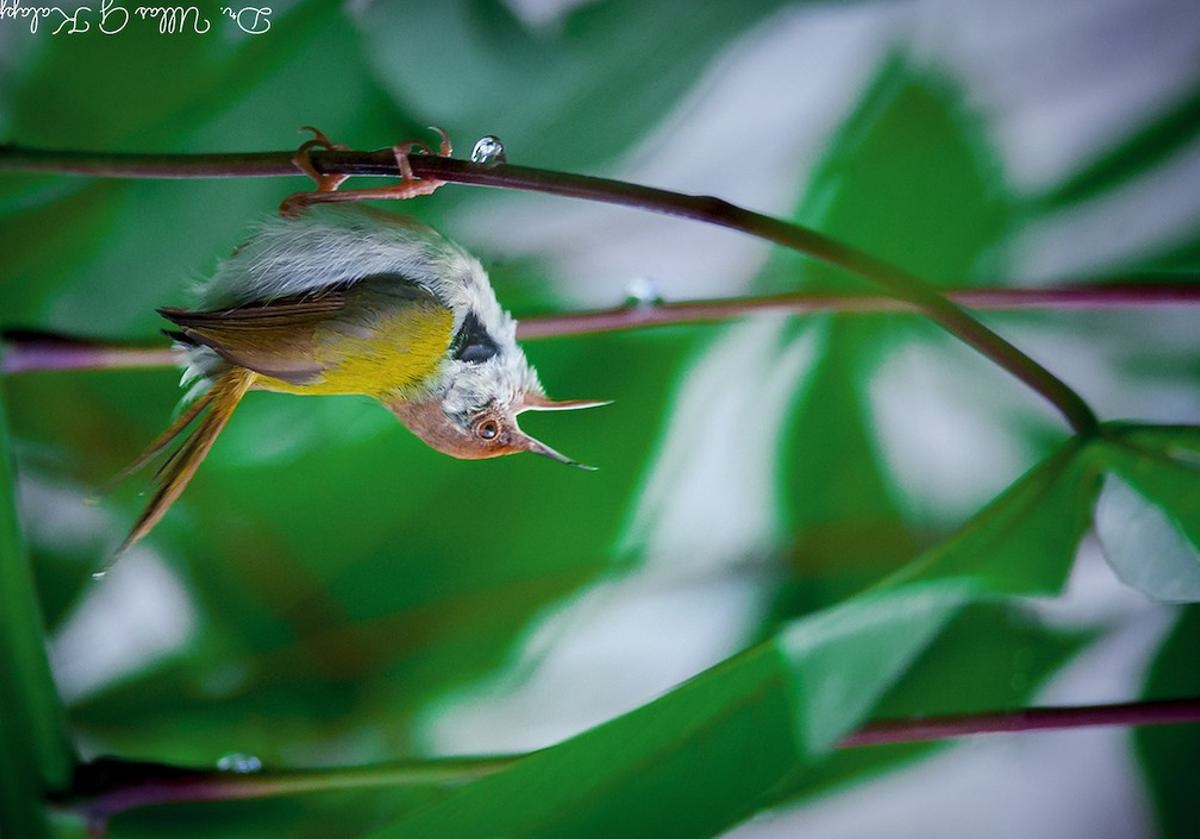tailorbird: (97, 112, 633, 539)
